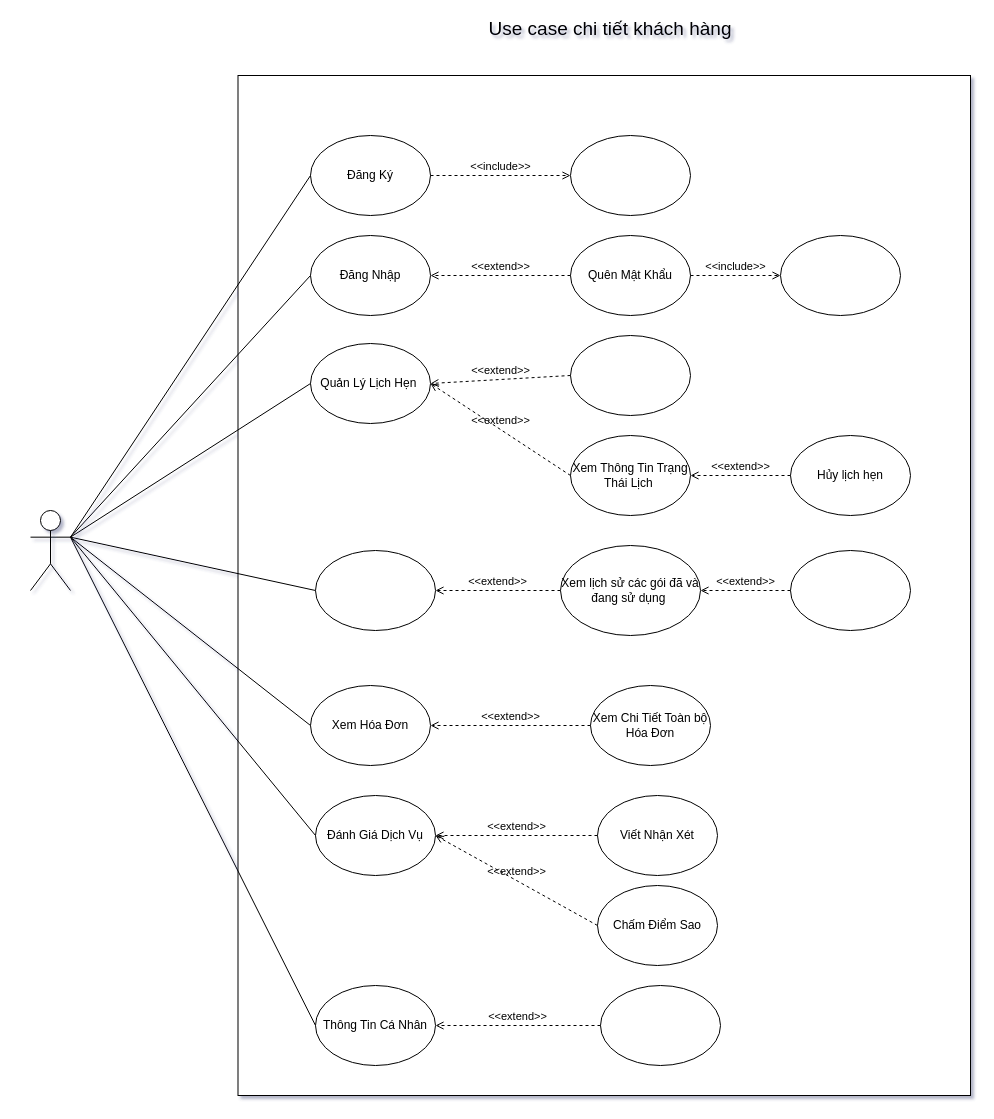
The diagram is 994 pixels wide and 1119 high, and some of its shapes have lost their labels. The shapes that lost their labels are listed below. From the top down, each one's centre as x and y in pixels, then its label:
the point at 630,175: Xác Thực OTP Gmail
the point at 840,275: Xác Thực OTP Gmaill
the point at 630,375: Đặt Lịch
the point at 50,550: Khách Hàng
the point at 375,590: Hồ sơ điều trị
the point at 850,590: Đặt lịch tiếp theo của gói liệu trình
the point at 660,1025: Cập Nhập Thông Tin
